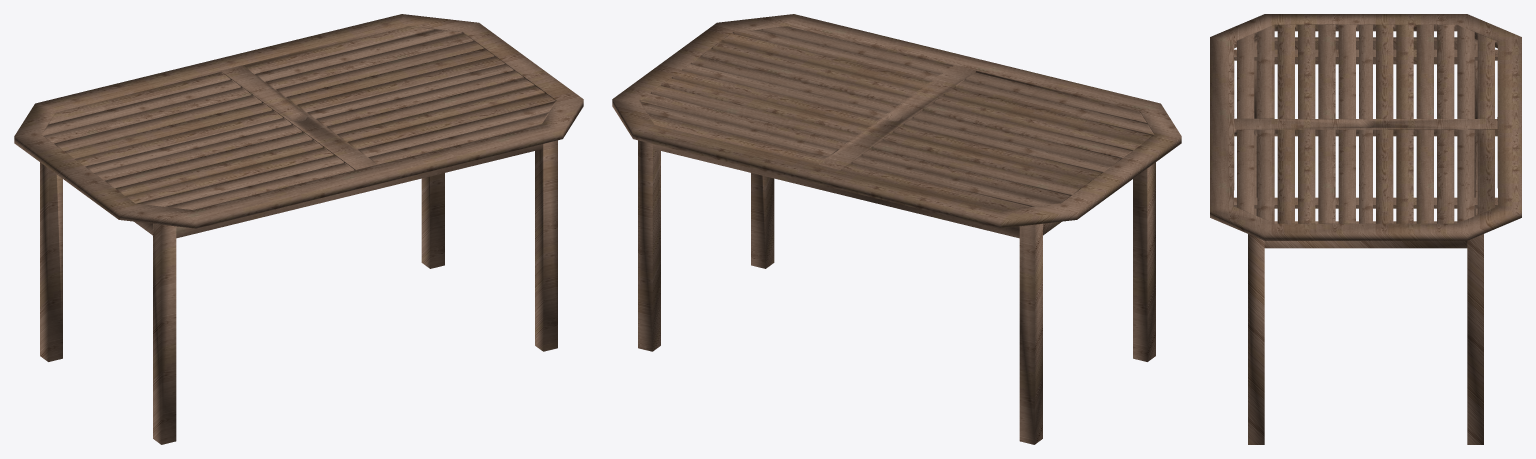
Rendered from Wooden_Table_noground_opt.obj.
The picture shows the model from 3 angles, left to right: view 1: azimuth 30°, elevation 25°; view 2: azimuth 150°, elevation 25°; view 3: azimuth 270°, elevation 25°; orthographic projection. The views are drawn at different scales.
Visible parts, largest first — view 1: default_1_2; view 2: default_1_2; view 3: default_1_2.
Boxes of the visible parts, x1,y1,x2,y2 form: default_1_2: (14, 14, 583, 444); default_1_2: (612, 14, 1181, 444); default_1_2: (1210, 14, 1521, 444).
Bounding box in the file's own units: 150 × 72.28 × 89.92.
1 material, 1 textured.
